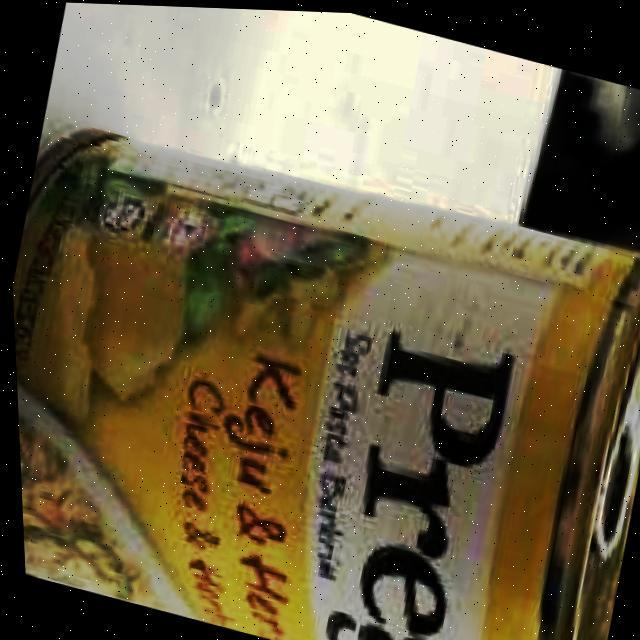Lata: (15, 137, 640, 640)
